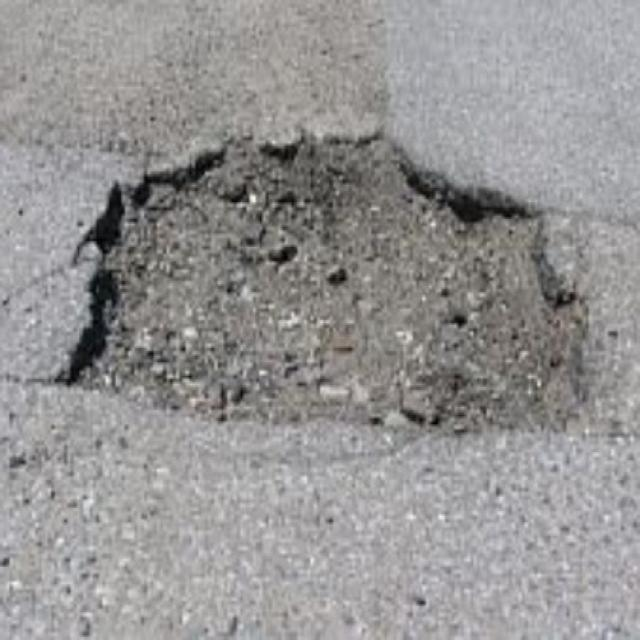pothole: (54, 118, 600, 440)
